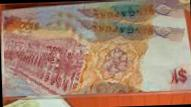10000SingaporeDollar: (2, 4, 186, 96)
